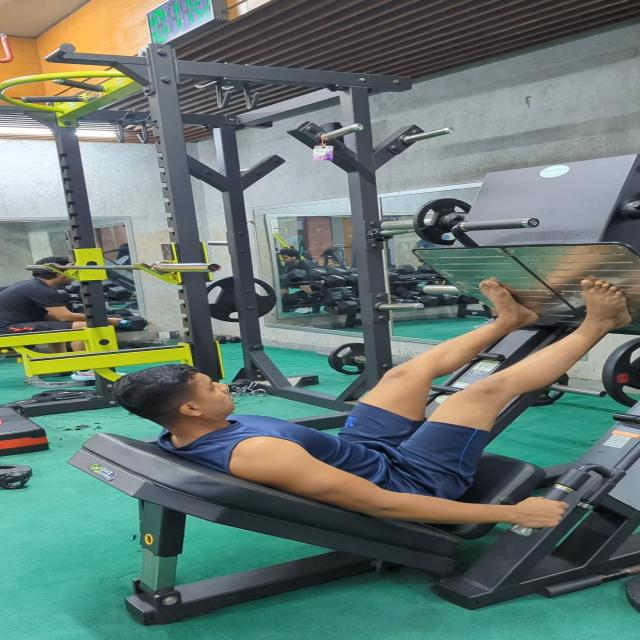Normal_LegPress: (95, 275, 640, 538)
